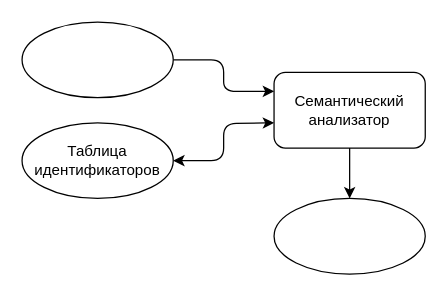
Some shapes in this 447 by 296 pixel diagram are drawn without their labels. Each missing label, with the centre of its shape:
Протокол: the point at 349,235
Таблица лексем: the point at 97,59
